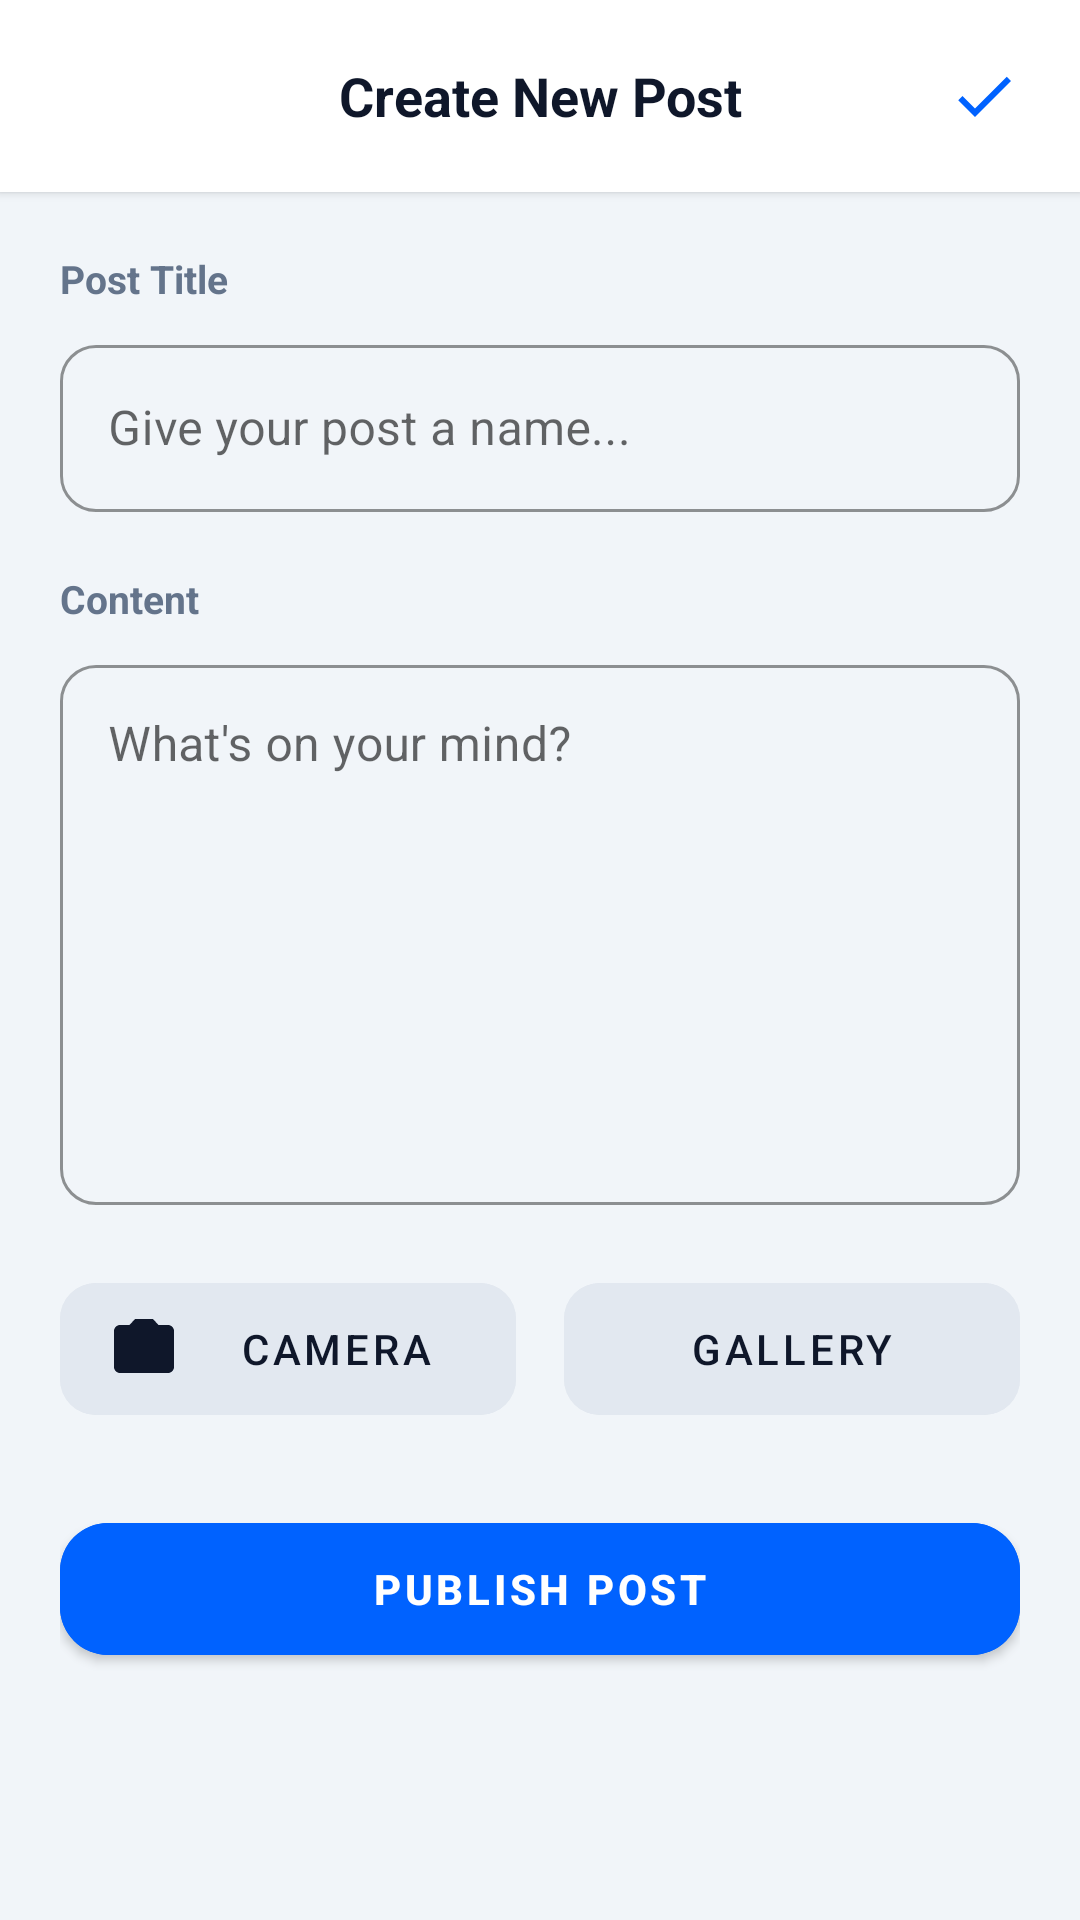

Where to tap for icons on this 1080w x 1920h app screen, as [x,y]:
Save post: [984,97]
